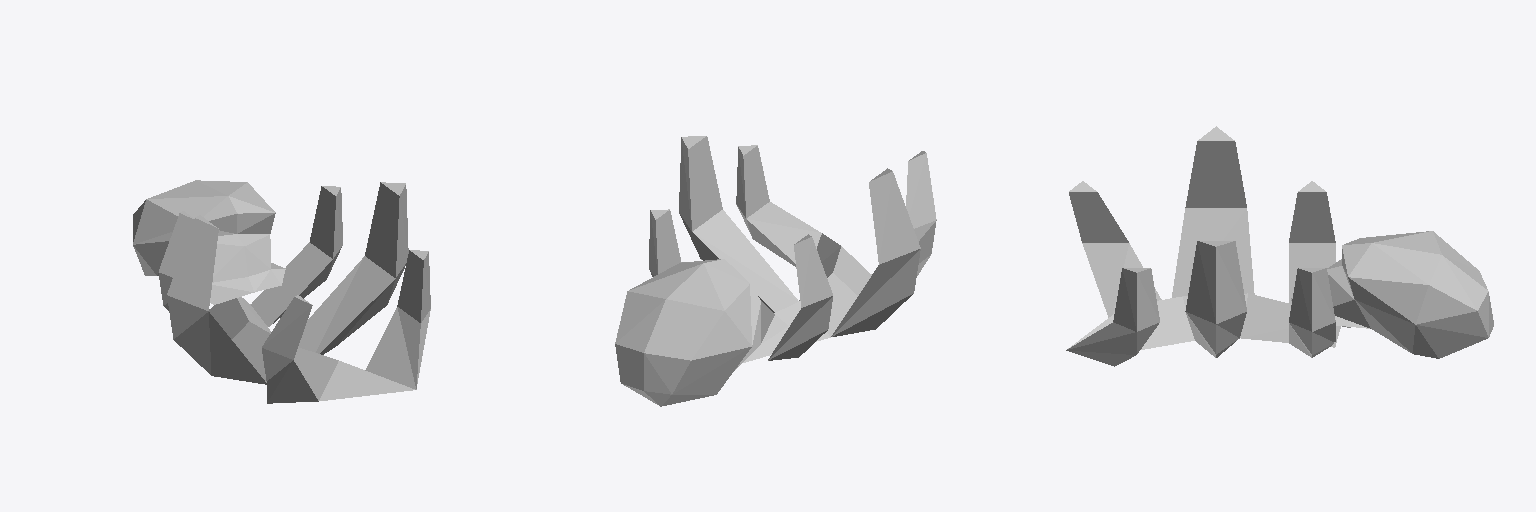
File: dwarvebone01.obj
3 views of the same model, side by side, from view 1: azimuth 30°, elevation 25°; view 2: azimuth 150°, elevation 25°; view 3: azimuth 270°, elevation 25° (orthographic).
Parts seen in each view (by area): view 1: dwarvebone01.m2; view 2: dwarvebone01.m2; view 3: dwarvebone01.m2.
Part boxes in pixels (x1,y1,x2,y2): dwarvebone01.m2: (133, 180, 430, 403); dwarvebone01.m2: (615, 136, 936, 406); dwarvebone01.m2: (1066, 126, 1493, 366).
Size of the model in its own units: 0.5699 by 0.3791 by 0.8743.